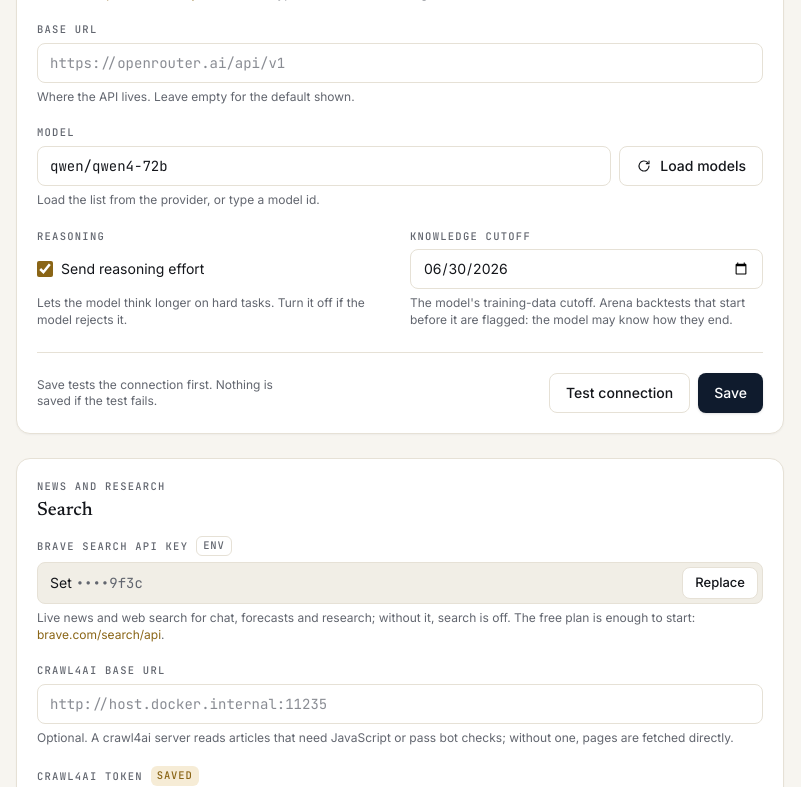
it: SettingsPage: AI provider › reports a test request that never reached the API
(page scrolled)
What coordinates should you click on to do the following:
click the button "Test connection"
I would click on:
 (620, 393)
Its box is [549,373,690,413].
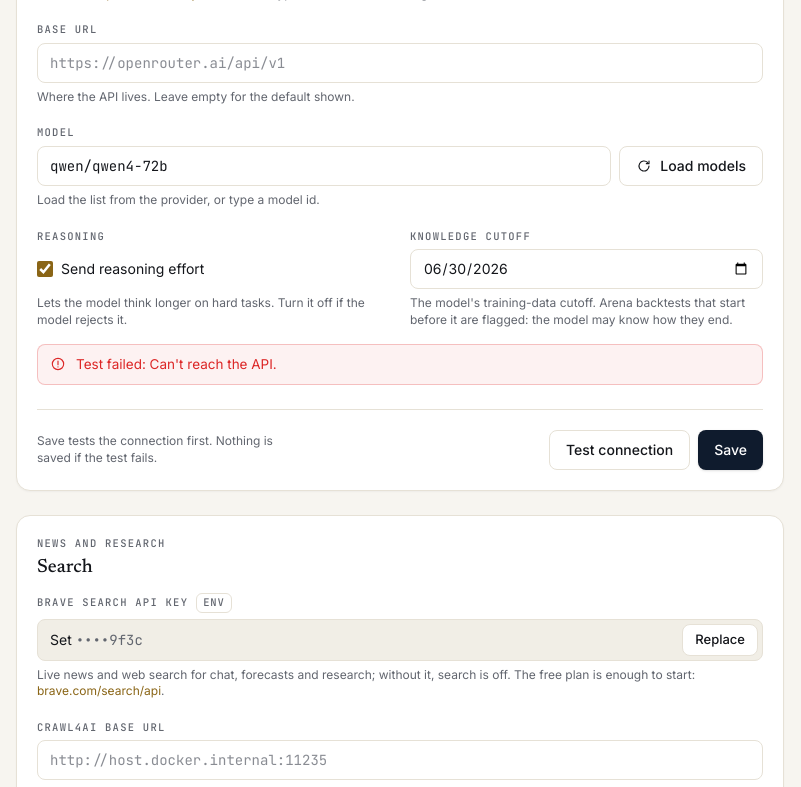
Check: the message "Test failed: Can't reach the API." is shown, box [37,344,763,385]
